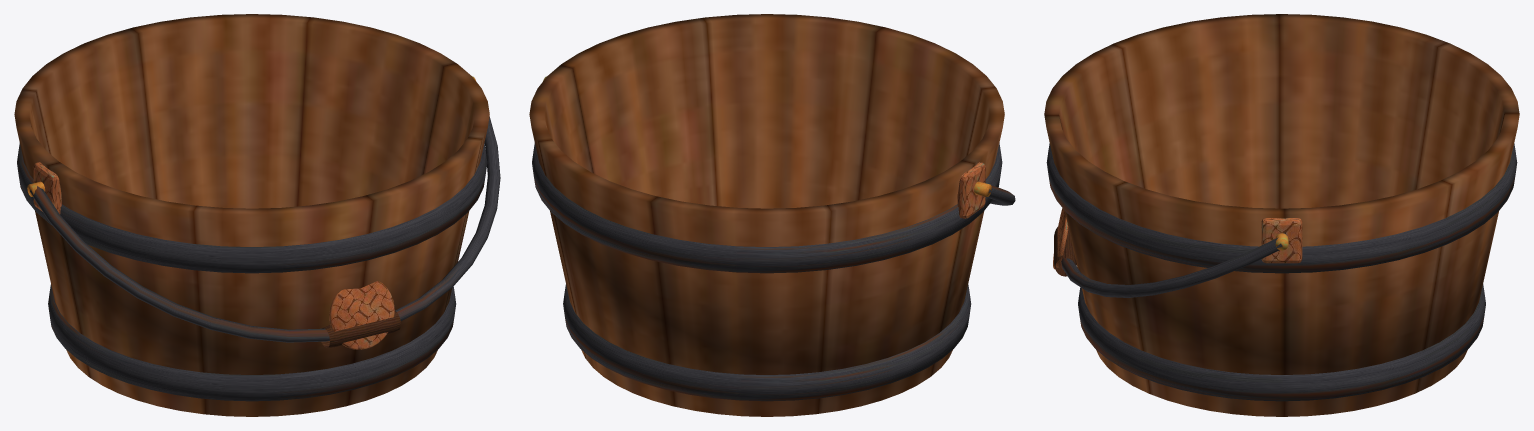
The model's file is bucket.glb.
The picture shows the model from 3 angles, left to right: view 1: azimuth 30°, elevation 25°; view 2: azimuth 150°, elevation 25°; view 3: azimuth 270°, elevation 25°; orthographic projection.
Parts seen in each view (by area): view 1: pail_staves, pail_hoop_1, pail_hoop_0, pail_handle_bail, pail_medallion, pail_handle_grip, pail_ear_L; view 2: pail_staves, pail_hoop_1, pail_hoop_0, pail_ear_L; view 3: pail_staves, pail_hoop_1, pail_hoop_0, pail_handle_bail, pail_ear_R, pail_handle_grip, pail_medallion.
Boxes of the visible parts, x1,y1,x2,y2 form: pail_staves: (14,14,489,416); pail_hoop_1: (17,143,487,273); pail_hoop_0: (48,284,456,401); pail_handle_bail: (30,116,500,342); pail_medallion: (329,281,394,349); pail_handle_grip: (321,311,400,347); pail_ear_L: (33,162,61,213); pail_staves: (529,14,1004,416); pail_hoop_1: (532,143,1002,273); pail_hoop_0: (563,284,971,401); pail_ear_L: (957,162,985,218); pail_staves: (1044,14,1519,416); pail_hoop_1: (1046,143,1517,273); pail_hoop_0: (1078,284,1485,401); pail_handle_bail: (1061,237,1282,297); pail_ear_R: (1261,218,1302,263); pail_handle_grip: (1054,227,1076,276); pail_medallion: (1053,208,1068,269).
Bounding box in the file's own units: 0.626 × 0.3 × 0.58.
6 materials, 6 textured.
